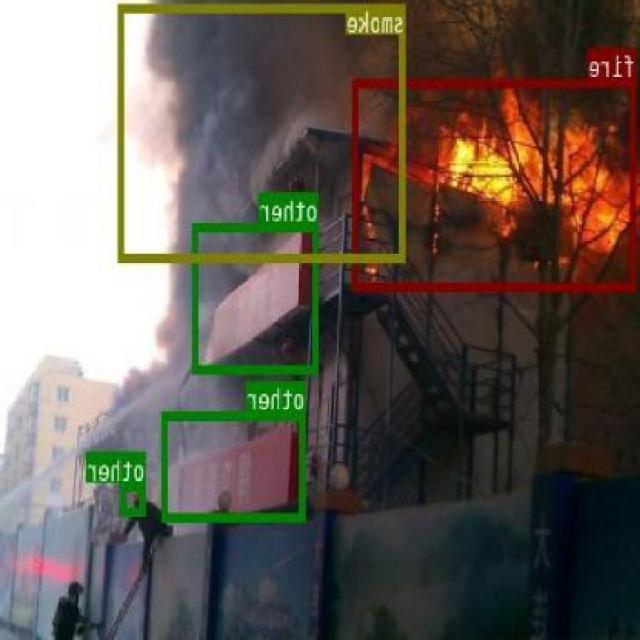Fire: (367, 88, 640, 265)
Smoke: (109, 0, 354, 508)
